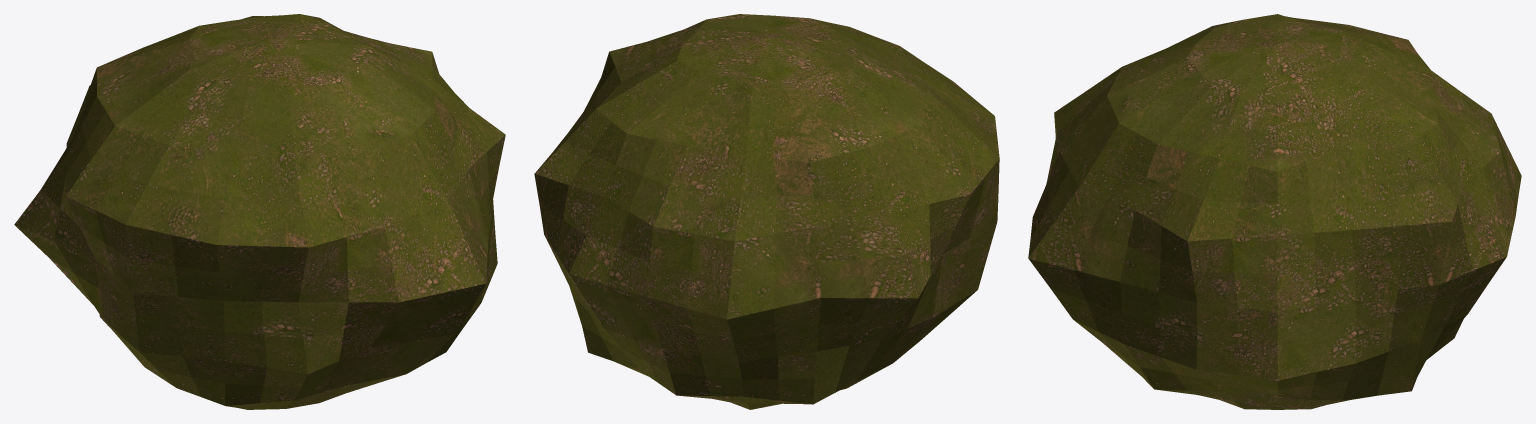
Rendered from round_2.glb.
3 views of the same model, side by side, from view 1: azimuth 30°, elevation 25°; view 2: azimuth 150°, elevation 25°; view 3: azimuth 270°, elevation 25° (orthographic).
Visible parts, largest first — view 1: round; view 2: round; view 3: round.
Boxes of the visible parts, x1,y1,x2,y2 form: round: (14, 14, 505, 409); round: (534, 14, 999, 409); round: (1028, 14, 1521, 409).
Size of the model in its own units: 1.88 by 1.51 by 1.96.
Materials: 1 (1 with a texture image).
